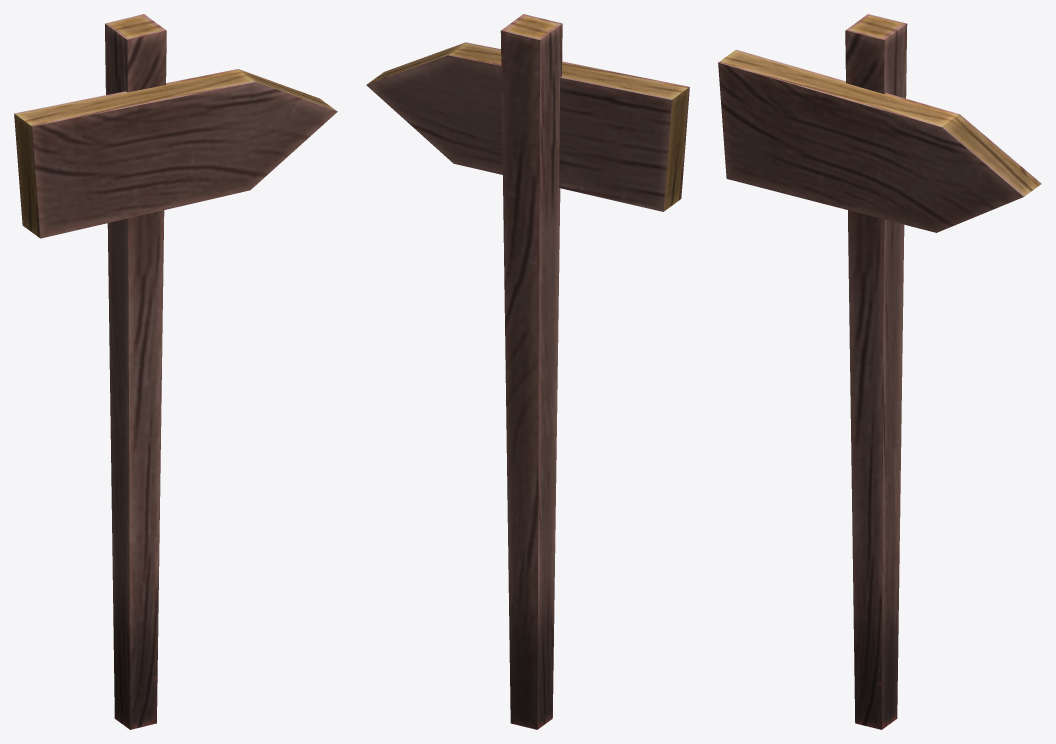
File: sign.FBX
3 renders of one model, left to right at view 1: azimuth 30°, elevation 25°; view 2: azimuth 150°, elevation 25°; view 3: azimuth 330°, elevation 25°, orthographic.
Visible parts, largest first — view 1: sign; view 2: sign; view 3: sign.
Part boxes in pixels (x1=…): sign: x1=14, y1=14, x2=337, y2=729; sign: x1=366, y1=14, x2=689, y2=729; sign: x1=718, y1=14, x2=1041, y2=729.
Bounding box in the file's own units: 184 × 400 × 40.2.
